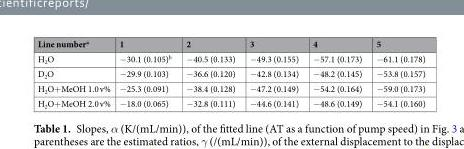table: (36, 37, 424, 109)
table column: (36, 37, 114, 109), (114, 37, 178, 109), (241, 37, 305, 109), (178, 37, 241, 109), (305, 37, 368, 109), (368, 37, 424, 109)
table column header: (36, 37, 424, 50)
table row: (36, 50, 424, 66), (36, 66, 424, 81), (36, 81, 424, 95), (36, 95, 424, 109), (36, 37, 424, 50)
